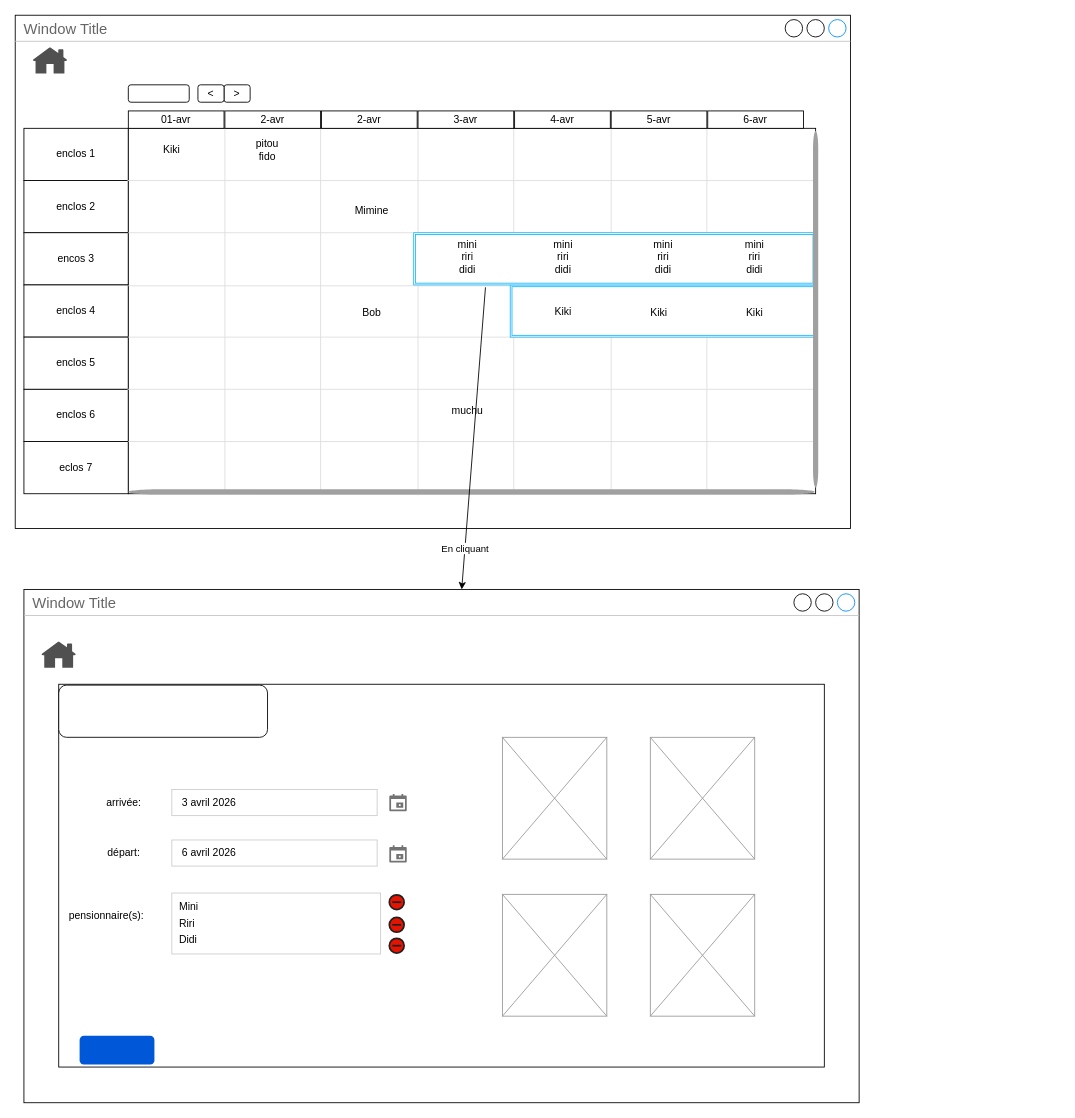
The diagram is 1075 pixels wide and 1118 high, and some of its shapes have lost their labels. Each missing label, with the centre of its shape:
aujourd'hui: (x=158, y=93)
Enregistrer: (x=116, y=1049)
pension #126753: (x=163, y=710)
